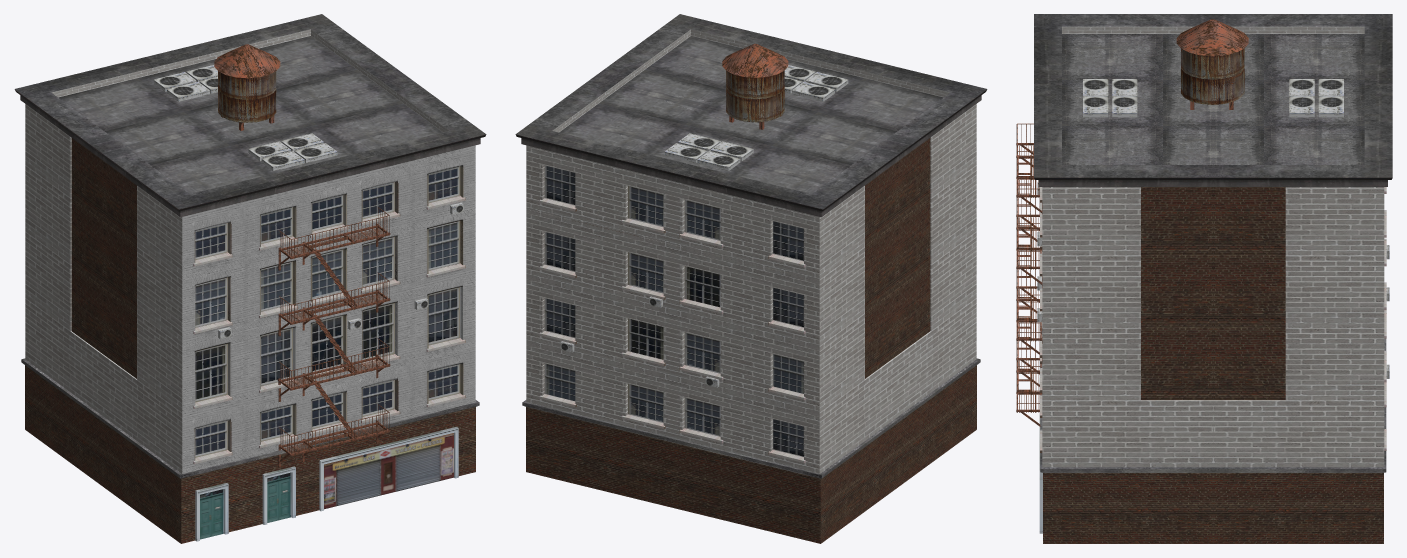
Rendered from Building_A09.obj.
The picture shows the model from 3 angles, left to right: view 1: azimuth 30°, elevation 25°; view 2: azimuth 150°, elevation 25°; view 3: azimuth 270°, elevation 25°; orthographic projection. The views are drawn at different scales.
Visible parts, largest first — view 1: K_Building_A09_00; view 2: K_Building_A09_00; view 3: K_Building_A09_00.
Part boxes in pixels (x1,y1,x2,y2): K_Building_A09_00: (14,14,486,543); K_Building_A09_00: (515,14,987,543); K_Building_A09_00: (1016,14,1392,543).
Bounding box in the file's own units: 16.11 × 20.35 × 15.67.
